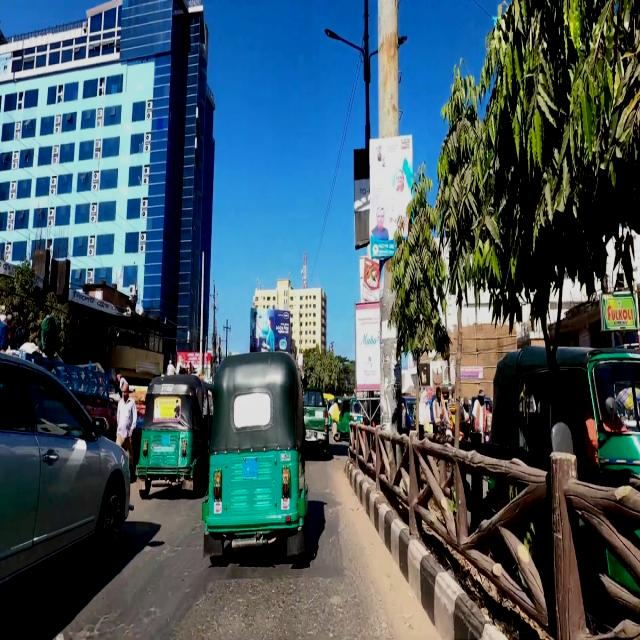silver: (0, 346, 136, 586)
